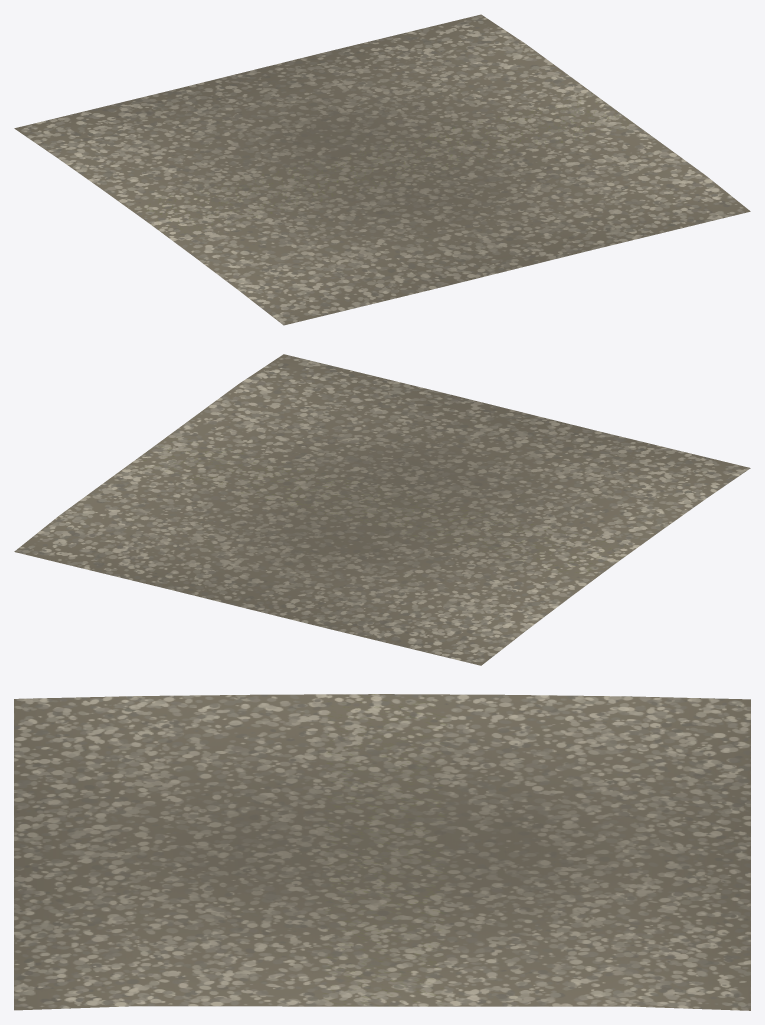
File: toaster_road_gravel.glb
3 views of the same model, one above another, from view 1: azimuth 30°, elevation 25°; view 2: azimuth 150°, elevation 25°; view 3: azimuth 270°, elevation 25° (orthographic). The views are drawn at different scales.
Visible parts, largest first — view 1: toaster_road_gravel_surface; view 2: toaster_road_gravel_surface; view 3: toaster_road_gravel_surface.
Boxes of the visible parts, x1=… form: toaster_road_gravel_surface: x1=14, y1=14, x2=750, y2=325; toaster_road_gravel_surface: x1=14, y1=354, x2=750, y2=665; toaster_road_gravel_surface: x1=14, y1=694, x2=750, y2=1010.
Size of the model in its own units: 4 by 0.0338 by 4.
1 material, 1 textured.
